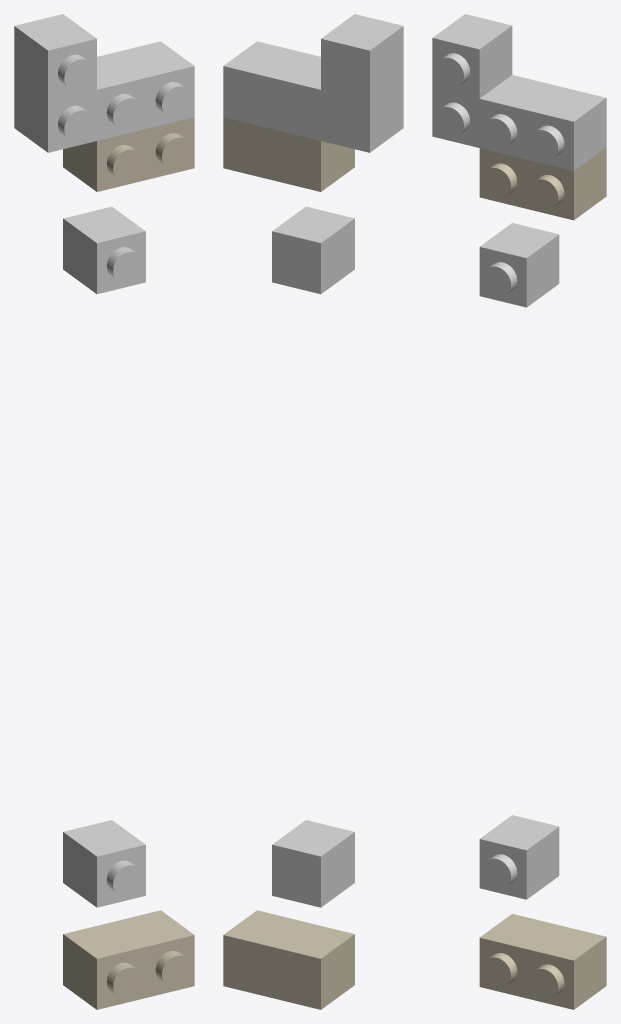
Rendered from current.glb.
3 views of the same model, side by side, from view 1: azimuth 30°, elevation 25°; view 2: azimuth 150°, elevation 25°; view 3: azimuth 330°, elevation 25° (orthographic). The views are drawn at different scales.
Visible parts, largest first — view 1: world; view 2: world; view 3: world.
Boxes of the visible parts, x1=… form: world: x1=14, y1=14, x2=194, y2=1009; world: x1=223, y1=14, x2=403, y2=1009; world: x1=432, y1=14, x2=606, y2=1009.
Size of the model in its own units: 24 by 152 by 11.4.
